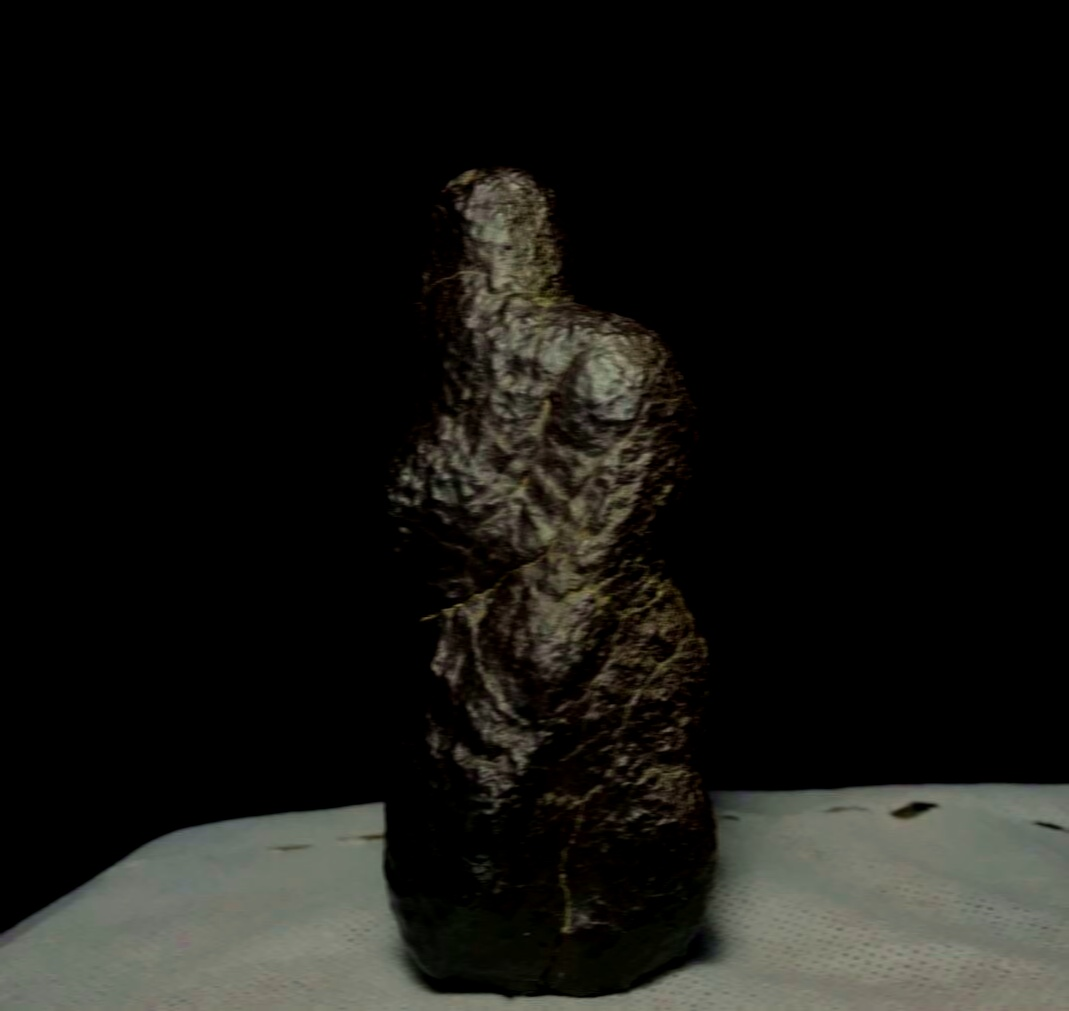halobolite: (311, 143, 784, 1011)
